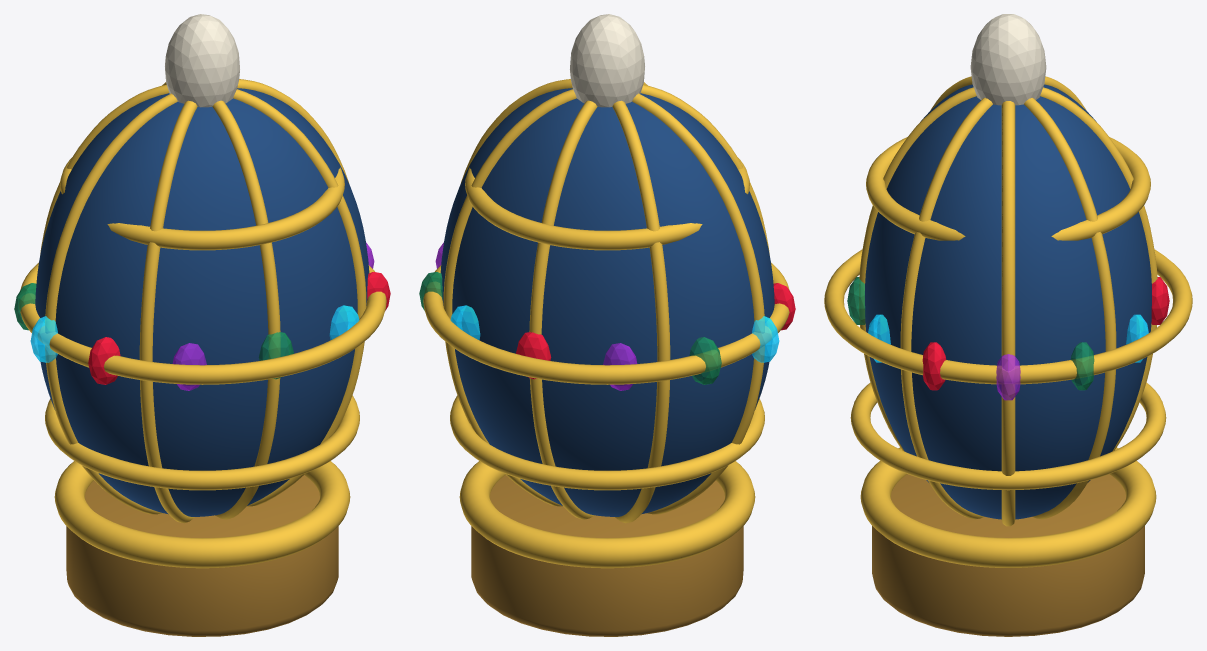
The model's file is egg.glb.
3 renders of one model, left to right at view 1: azimuth 30°, elevation 25°; view 2: azimuth 150°, elevation 25°; view 3: azimuth 270°, elevation 25°, orthographic.
Visible parts, largest first — view 1: treasure-egg-faberge-lapis-enamel-body, treasure-egg-chased-gold-foot, treasure-egg-solid-gold-foot-rim, treasure-egg-horizontal-solid-gold-filigree-band.001, treasure-egg-horizontal-solid-gold-filigree-band, treasure-egg-crowning-diamond, treasure-egg-longitude-gold-filigree.005, treasure-egg-horizontal-solid-gold-filigree-band.002, treasure-egg-longitude-gold-filigree.006, treasure-egg-longitude-gold-filigree.004, treasure-egg-longitude-gold-filigree.003, treasure-egg-longitude-gold-filigree.007 (+7 smaller); view 2: treasure-egg-faberge-lapis-enamel-body, treasure-egg-chased-gold-foot, treasure-egg-solid-gold-foot-rim, treasure-egg-horizontal-solid-gold-filigree-band.001, treasure-egg-horizontal-solid-gold-filigree-band, treasure-egg-crowning-diamond, treasure-egg-longitude-gold-filigree.007, treasure-egg-horizontal-solid-gold-filigree-band.002, treasure-egg-longitude-gold-filigree.006, treasure-egg-longitude-gold-filigree, treasure-egg-longitude-gold-filigree.001, treasure-egg-longitude-gold-filigree.005 (+7 smaller); view 3: treasure-egg-faberge-lapis-enamel-body, treasure-egg-chased-gold-foot, treasure-egg-solid-gold-foot-rim, treasure-egg-horizontal-solid-gold-filigree-band.001, treasure-egg-horizontal-solid-gold-filigree-band, treasure-egg-longitude-gold-filigree.002, treasure-egg-crowning-diamond, treasure-egg-horizontal-solid-gold-filigree-band.002, treasure-egg-longitude-gold-filigree.001, treasure-egg-longitude-gold-filigree.003, treasure-egg-longitude-gold-filigree.004, treasure-egg-longitude-gold-filigree (+5 smaller).
Boxes of the visible parts, x1=… form: treasure-egg-faberge-lapis-enamel-body: x1=35, y1=88, x2=369, y2=516; treasure-egg-chased-gold-foot: x1=66, y1=475, x2=338, y2=636; treasure-egg-solid-gold-foot-rim: x1=54, y1=461, x2=350, y2=568; treasure-egg-horizontal-solid-gold-filigree-band.001: x1=19, y1=262, x2=386, y2=384; treasure-egg-horizontal-solid-gold-filigree-band: x1=45, y1=395, x2=359, y2=490; treasure-egg-crowning-diamond: x1=165, y1=14, x2=239, y2=107; treasure-egg-longitude-gold-filigree.005: x1=139, y1=100, x2=197, y2=523; treasure-egg-horizontal-solid-gold-filigree-band.002: x1=60, y1=158, x2=344, y2=250; treasure-egg-longitude-gold-filigree.006: x1=45, y1=93, x2=177, y2=514; treasure-egg-longitude-gold-filigree.004: x1=212, y1=100, x2=280, y2=519; treasure-egg-longitude-gold-filigree.003: x1=233, y1=89, x2=366, y2=506; treasure-egg-longitude-gold-filigree.007: x1=40, y1=85, x2=169, y2=255; treasure-egg-faberge-lapis-enamel-body: x1=440, y1=88, x2=774, y2=516; treasure-egg-chased-gold-foot: x1=471, y1=475, x2=743, y2=636; treasure-egg-solid-gold-foot-rim: x1=459, y1=461, x2=755, y2=568; treasure-egg-horizontal-solid-gold-filigree-band.001: x1=423, y1=262, x2=789, y2=384; treasure-egg-horizontal-solid-gold-filigree-band: x1=450, y1=395, x2=764, y2=490; treasure-egg-crowning-diamond: x1=570, y1=14, x2=644, y2=107; treasure-egg-longitude-gold-filigree.007: x1=612, y1=100, x2=670, y2=523; treasure-egg-horizontal-solid-gold-filigree-band.002: x1=465, y1=158, x2=749, y2=250; treasure-egg-longitude-gold-filigree.006: x1=632, y1=93, x2=764, y2=514; treasure-egg-longitude-gold-filigree: x1=529, y1=100, x2=597, y2=519; treasure-egg-longitude-gold-filigree.001: x1=443, y1=89, x2=576, y2=506; treasure-egg-longitude-gold-filigree.005: x1=640, y1=85, x2=769, y2=255; treasure-egg-faberge-lapis-enamel-body: x1=865, y1=84, x2=1151, y2=519; treasure-egg-chased-gold-foot: x1=872, y1=474, x2=1144, y2=636; treasure-egg-solid-gold-foot-rim: x1=860, y1=447, x2=1156, y2=567; treasure-egg-horizontal-solid-gold-filigree-band.001: x1=824, y1=249, x2=1192, y2=384; treasure-egg-horizontal-solid-gold-filigree-band: x1=850, y1=382, x2=1166, y2=490; treasure-egg-longitude-gold-filigree.002: x1=1001, y1=101, x2=1015, y2=526; treasure-egg-crowning-diamond: x1=970, y1=14, x2=1046, y2=105; treasure-egg-horizontal-solid-gold-filigree-band.002: x1=866, y1=137, x2=1150, y2=240; treasure-egg-longitude-gold-filigree.001: x1=1024, y1=98, x2=1116, y2=519; treasure-egg-longitude-gold-filigree.003: x1=900, y1=98, x2=992, y2=519; treasure-egg-longitude-gold-filigree.004: x1=859, y1=87, x2=976, y2=451; treasure-egg-longitude-gold-filigree: x1=1040, y1=87, x2=1157, y2=451.
Bounding box in the file's own units: 1.04 × 1.65 × 0.972.
